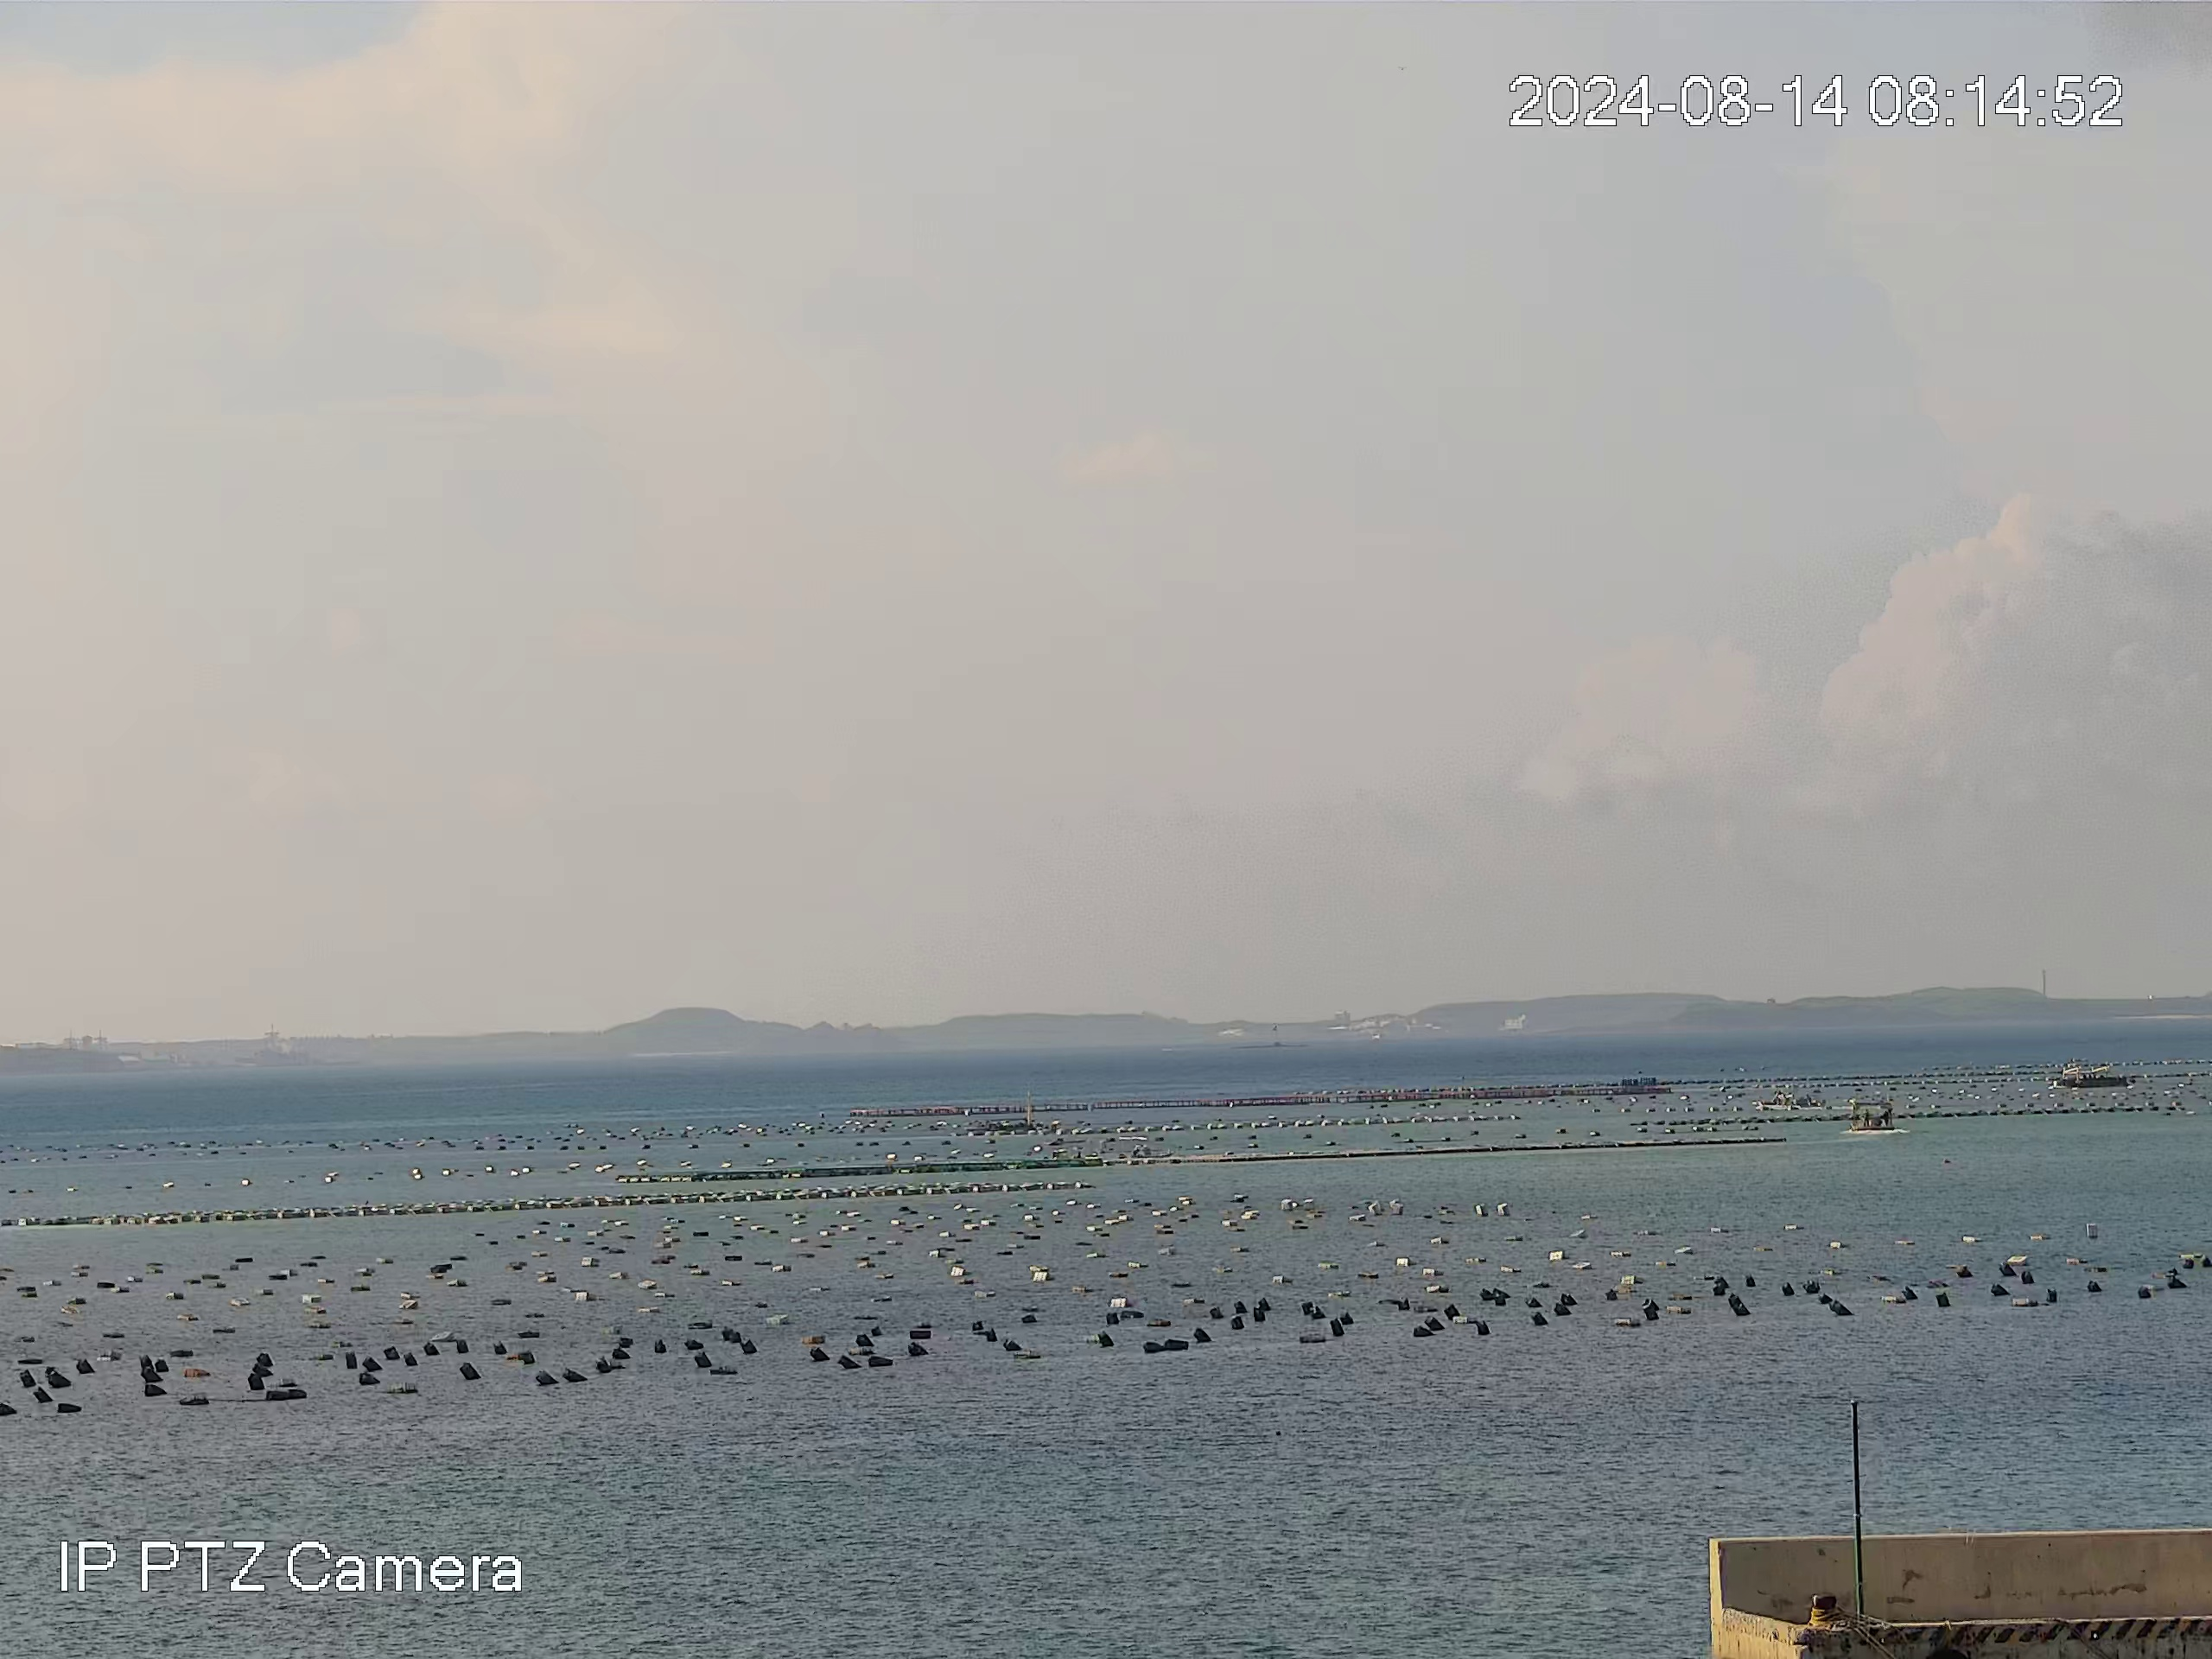boat: (2052, 1065, 2135, 1089), (1750, 1086, 1832, 1108), (1850, 1098, 1897, 1133)
